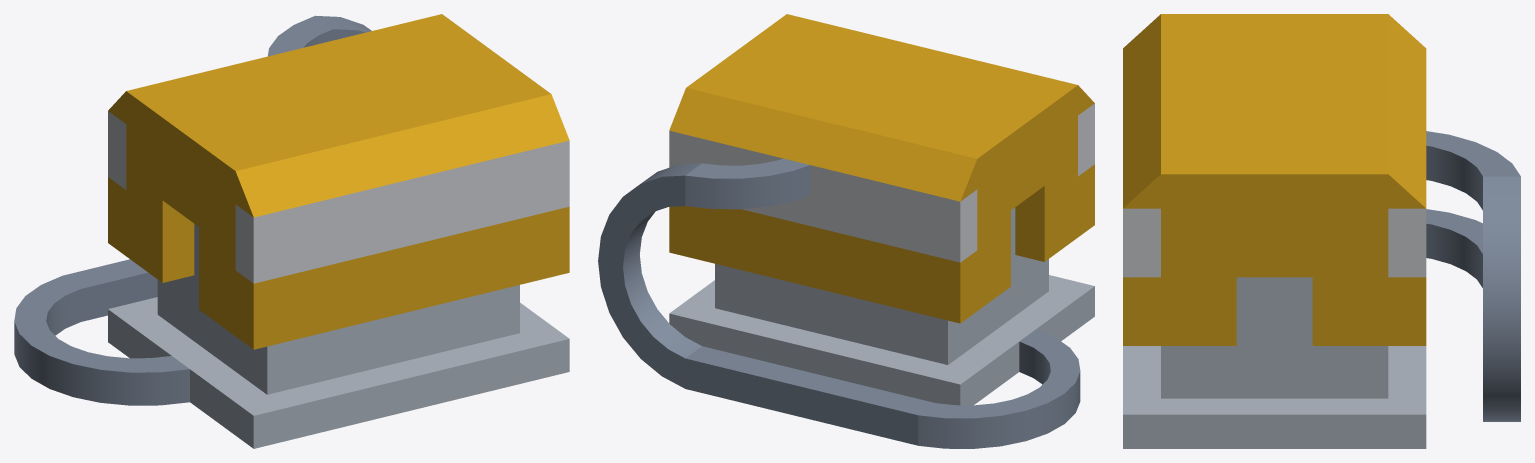
Rendered from machine-generator.glb.
3 renders of one model, left to right at view 1: azimuth 30°, elevation 25°; view 2: azimuth 150°, elevation 25°; view 3: azimuth 270°, elevation 25°, orthographic. The views are drawn at different scales.
Parts seen in each view (by area): view 1: machine_generator; view 2: machine_generator; view 3: machine_generator.
Part boxes in pixels (x1,y1,x2,y2): machine_generator: (14, 14, 569, 448); machine_generator: (598, 14, 1094, 448); machine_generator: (1123, 14, 1520, 448).
Bounding box in the file's own units: 2.27 × 1.3 × 1.71.
